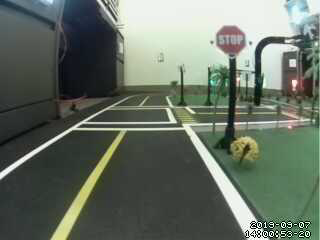Stop_Sign: (206, 23, 254, 64)
